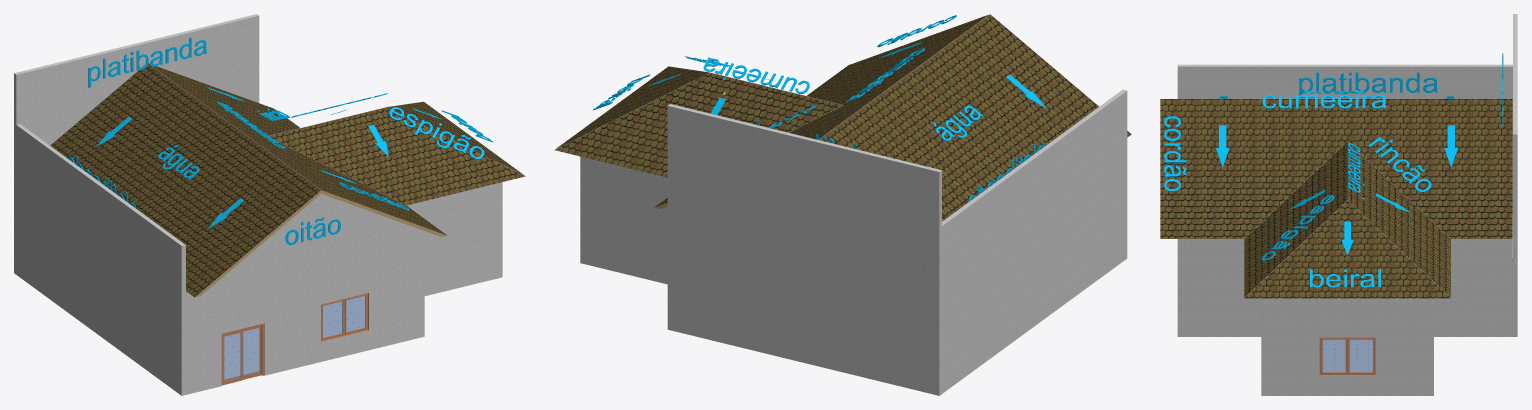
File: casaaN.glb
The picture shows the model from 3 angles, left to right: view 1: azimuth 30°, elevation 25°; view 2: azimuth 150°, elevation 25°; view 3: azimuth 270°, elevation 25°; orthographic projection. The views are drawn at different scales.
Visible parts, largest first — view 1: object 28, object 2, root, object 26, object 27; view 2: object 28, object 2, root; view 3: object 2, object 28, root, object 26, object 27.
Boxes of the visible parts, x1=… form: object 28: x1=14, y1=14, x2=502, y2=395; object 2: x1=50, y1=63, x2=525, y2=297; root: x1=67, y1=37, x2=493, y2=379; object 26: x1=224, y1=296, x2=365, y2=380; object 27: x1=221, y1=293, x2=368, y2=385; object 28: x1=580, y1=89, x2=1127, y2=395; object 2: x1=555, y1=14, x2=1131, y2=221; root: x1=593, y1=15, x2=1046, y2=202; object 2: x1=1160, y1=99, x2=1512, y2=298; object 28: x1=1177, y1=14, x2=1517, y2=395; root: x1=1164, y1=53, x2=1512, y2=372; object 26: x1=1322, y1=339, x2=1372, y2=372; object 27: x1=1319, y1=337, x2=1375, y2=375.
Bounding box in the file's own units: 15.8 × 8 × 12.79.
10 materials, 4 textured.
